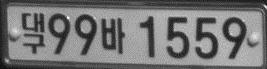1: (137, 15, 162, 58)
5: (165, 16, 189, 59), (194, 16, 217, 59)
9: (221, 16, 246, 60), (73, 13, 98, 55), (46, 12, 70, 54)
대구_V: (20, 11, 45, 54)
바: (100, 17, 125, 55)
